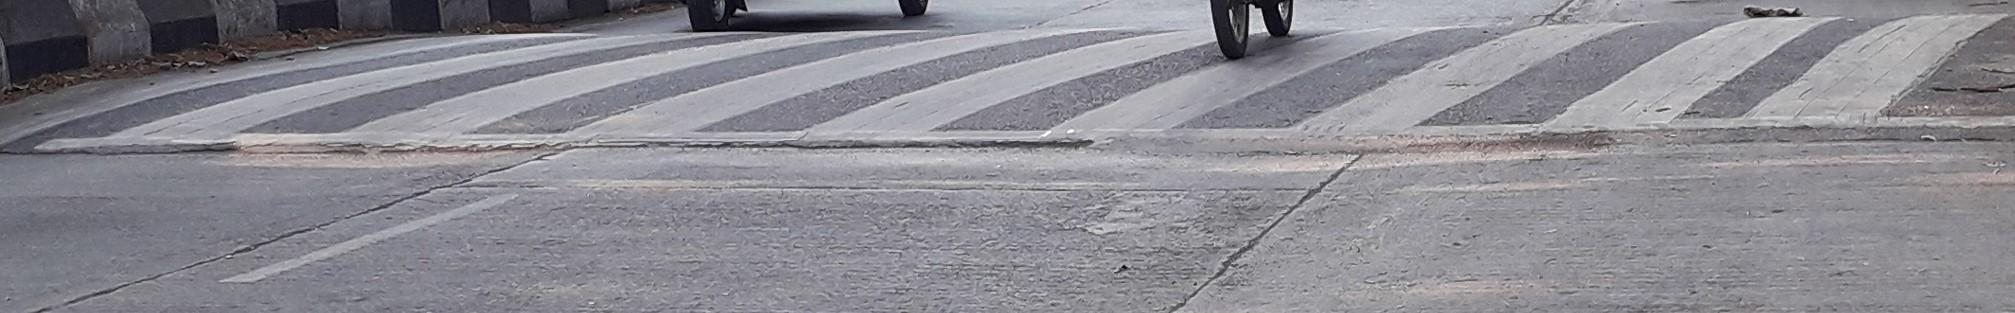speed-bump: (2, 13, 2015, 147)
